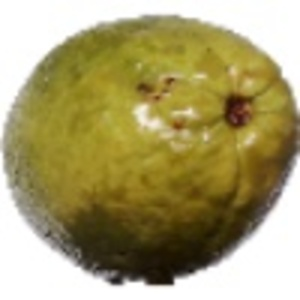goiaba: (4, 13, 295, 277)
